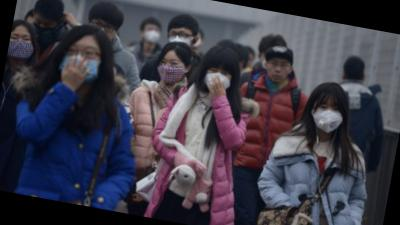with_mask: (55, 38, 104, 87), (307, 97, 348, 138), (199, 64, 236, 97), (156, 56, 189, 86), (8, 31, 37, 63), (29, 15, 58, 46), (166, 27, 196, 50), (140, 26, 162, 47)
without_mask: (263, 56, 294, 85), (87, 17, 119, 45)
